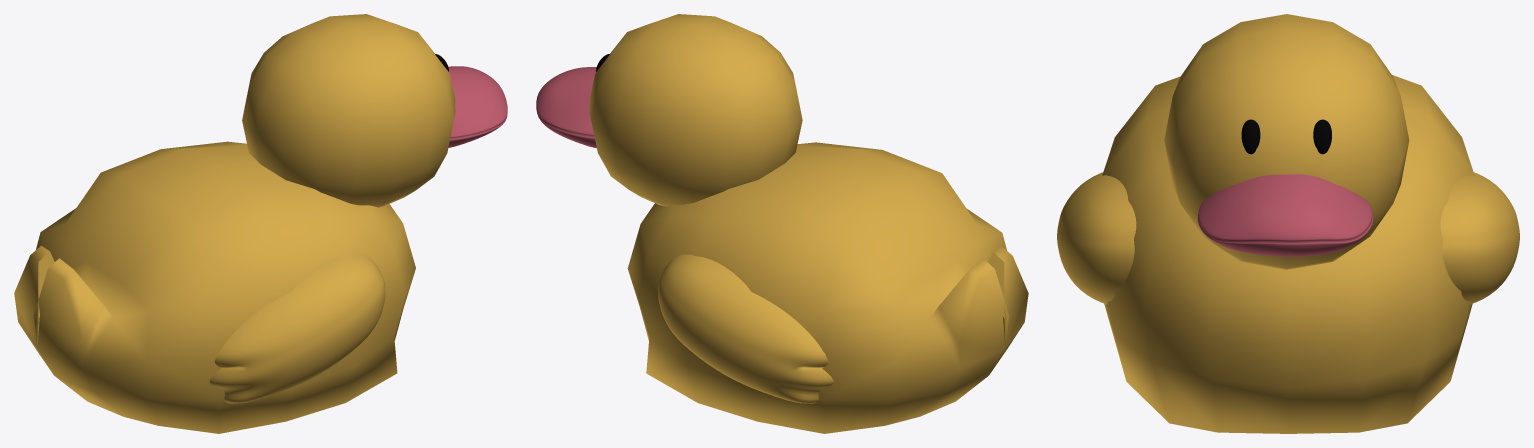
File: patito.fbx
3 views of the same model, side by side, from view 1: azimuth 30°, elevation 25°; view 2: azimuth 150°, elevation 25°; view 3: azimuth 270°, elevation 25° (orthographic). The views are drawn at different scales.
Visible parts, largest first — view 1: Cubo.003; view 2: Cubo.003; view 3: Cubo.003.
Boxes of the visible parts, left/top/right/bottom form: Cubo.003: left=14, top=14, right=507, bottom=433; Cubo.003: left=536, top=14, right=1028, bottom=433; Cubo.003: left=1057, top=14, right=1519, bottom=433.
Bounding box in the file's own units: 40.89 × 26.93 × 28.44.
